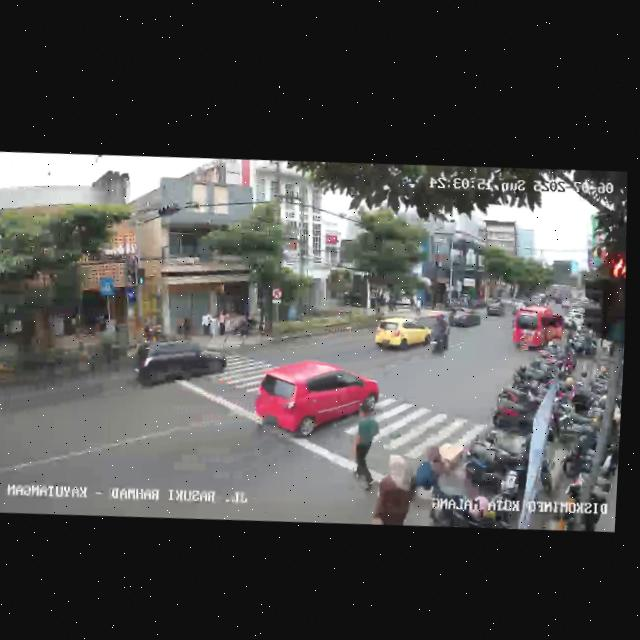car: (249, 355, 384, 447), (128, 331, 229, 396), (511, 305, 567, 355), (374, 315, 434, 356), (448, 305, 483, 332), (485, 299, 506, 318)
motorcycle: (428, 315, 451, 357)
person: (372, 449, 417, 525), (346, 405, 383, 490)
